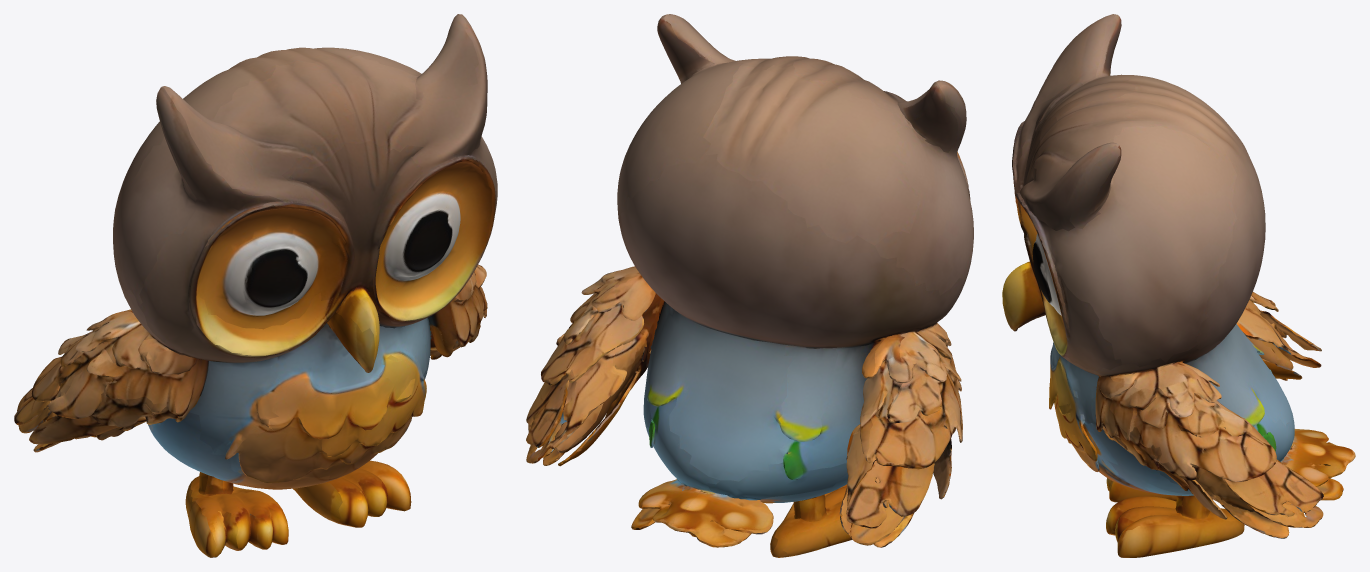
File: owl_textured.glb
3 views of the same model, side by side, from view 1: azimuth 30°, elevation 25°; view 2: azimuth 150°, elevation 25°; view 3: azimuth 270°, elevation 25° (orthographic). The views are drawn at different scales.
Visible parts, largest first — view 1: test-owl_textured; view 2: test-owl_textured; view 3: test-owl_textured.
Part boxes in pixels (<box>): test-owl_textured: <box>14,14,497,557</box>; test-owl_textured: <box>526,14,973,557</box>; test-owl_textured: <box>1002,14,1355,557</box>.
Bounding box in the file's own units: 1.88 × 1.99 × 1.46.
Materials: 1 (1 with a texture image).
